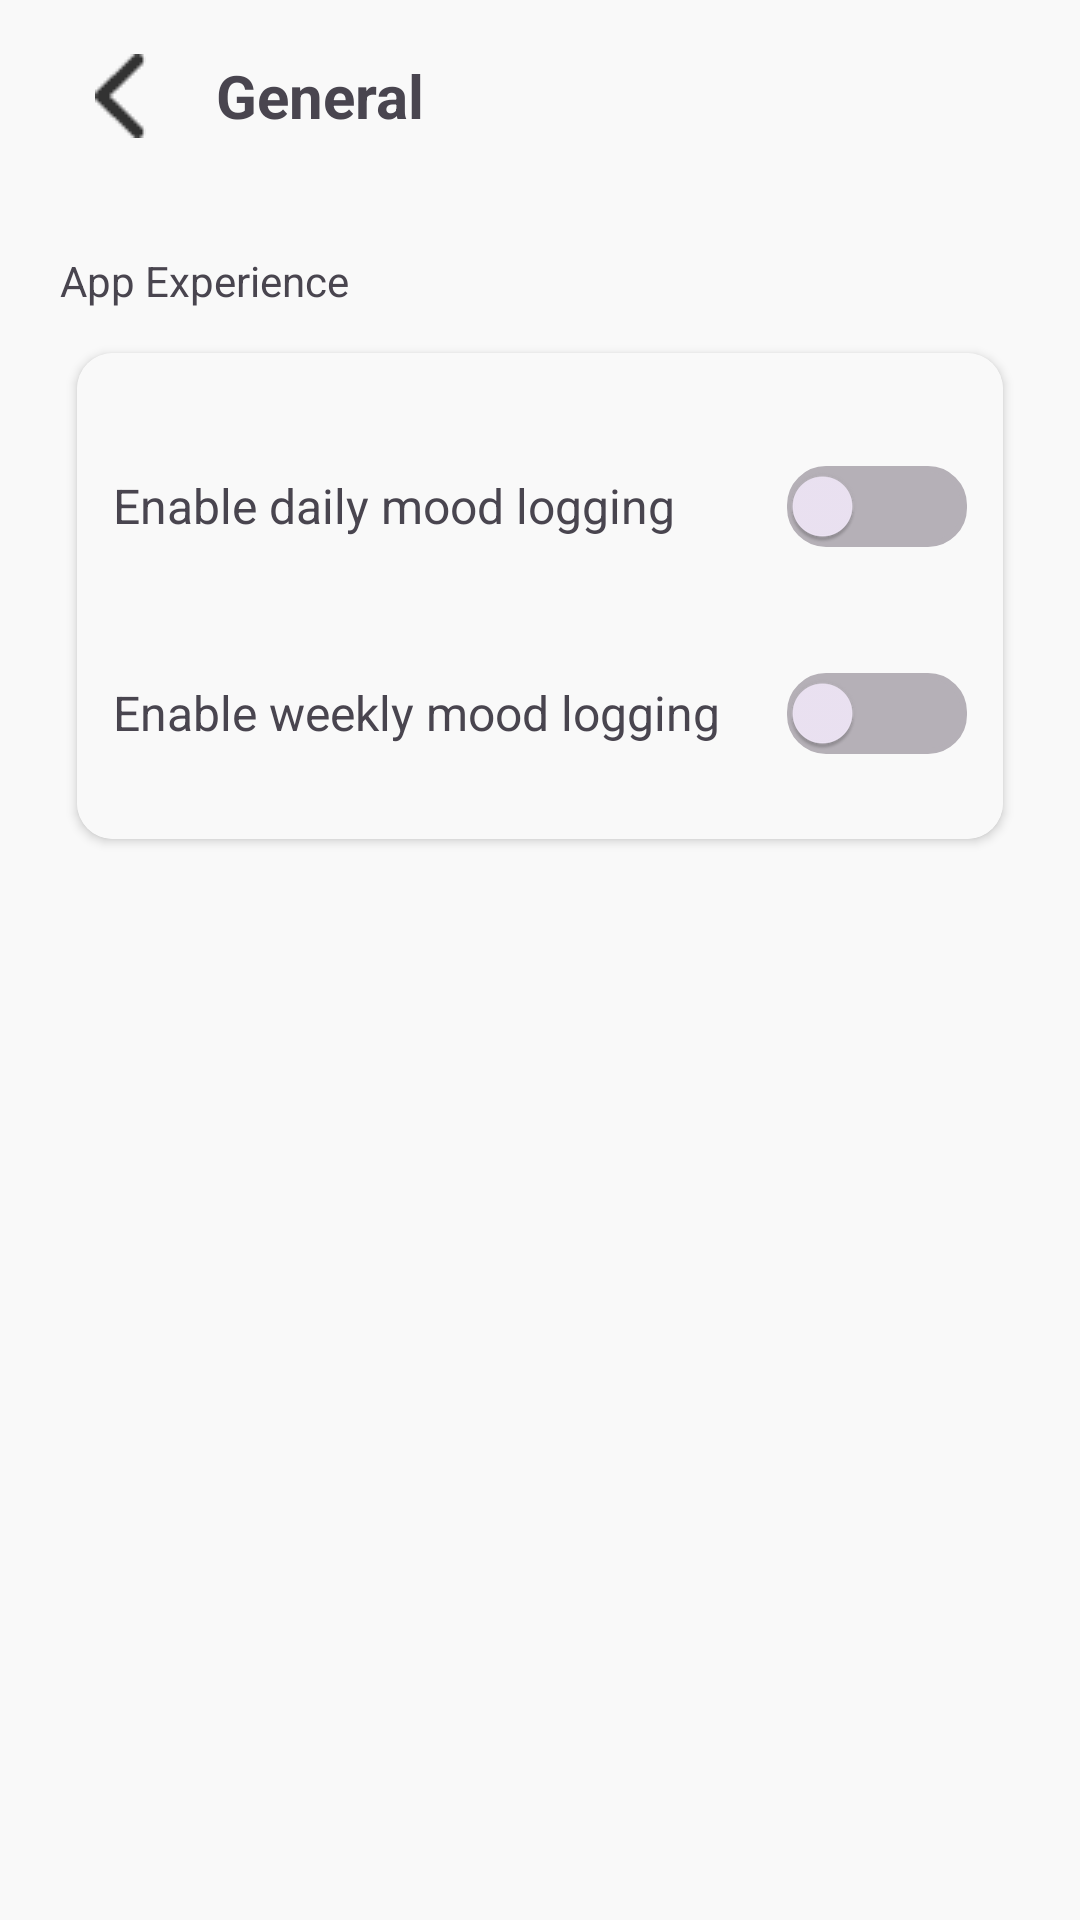

Named icons in this screenshot (1080w x 1920h) and their centers, [x,y]:
Back: [119,96]
